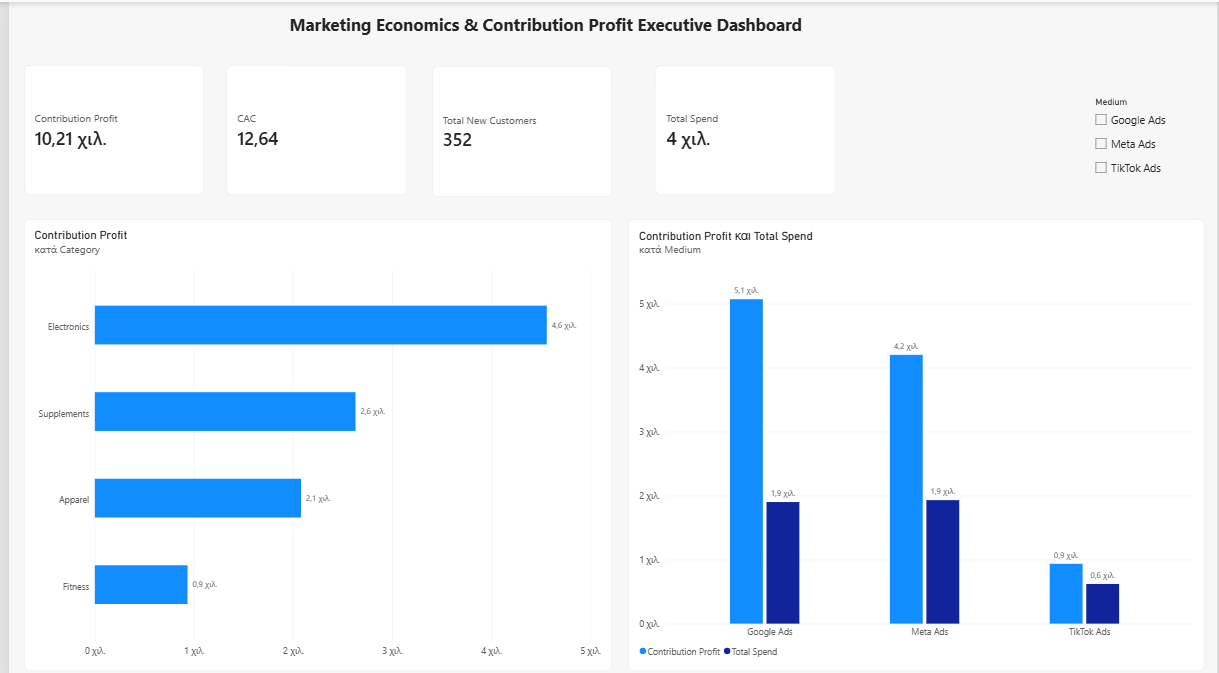

What the dashboard file says about the page in this screenshot:
{"tool":"powerbi","page":{"name":"Executive Economics","canvas":[1920,1080],"ordinal":0},"visuals":[{"type":"textbox","box":[445,0,867.4,62.4],"z":0},{"type":"cardVisual","fields":{"Data":["MarketingEconomics.Contribution Profit"]},"box":[23.9,100.2,286.3,207.6],"z":1},{"type":"cardVisual","fields":{"Data":["MarketingEconomics.CAC"]},"box":[346,100.2,286.3,207.6],"z":2},{"type":"cardVisual","fields":{"Data":["MarketingEconomics.Total New Customers"]},"box":[672.8,102.6,286.3,207.6],"z":3},{"type":"cardVisual","fields":{"Data":["MarketingEconomics.Total Spend"]},"box":[1028.3,100.2,286.3,207.6],"z":4},{"type":"clusteredBarChart","fields":{"Category":["MarketingEconomics.Category"],"Y":["MarketingEconomics.Contribution Profit"]},"box":[23.9,346,935.3,718.2],"z":5},{"type":"clusteredColumnChart","fields":{"Category":["MarketingEconomics.Medium"],"Y":["MarketingEconomics.Contribution Profit","MarketingEconomics.Total Spend"]},"box":[985.4,346,916.2,718.2],"z":6},{"type":"slicer","fields":{"Values":["MarketingEconomics.Medium"]},"box":[1720.2,150.3,181.3,159.9],"z":7}]}

Visuals, with their boxes in screenshot pixels (x1, y1, x2, y2), scaled from the page's 1920x1080 canvas onto the 1219x673 screenshot:
textbox: 283, 0, 833, 39
cardVisual - MarketingEconomics.Contribution Profit: 15, 62, 197, 192
cardVisual - MarketingEconomics.CAC: 220, 62, 401, 192
cardVisual - MarketingEconomics.Total New Customers: 427, 64, 609, 193
cardVisual - MarketingEconomics.Total Spend: 653, 62, 835, 192
clusteredBarChart - MarketingEconomics.Category x MarketingEconomics.Contribution Profit: 15, 216, 609, 663
clusteredColumnChart - MarketingEconomics.Medium x MarketingEconomics.Contribution Profit: 626, 216, 1207, 663
slicer - MarketingEconomics.Medium: 1092, 94, 1207, 193
